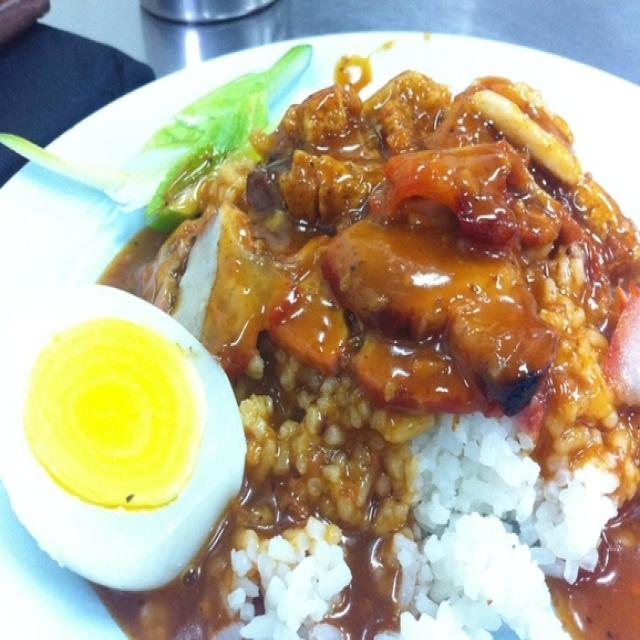猪肉菜式: (3, 37, 628, 634)
